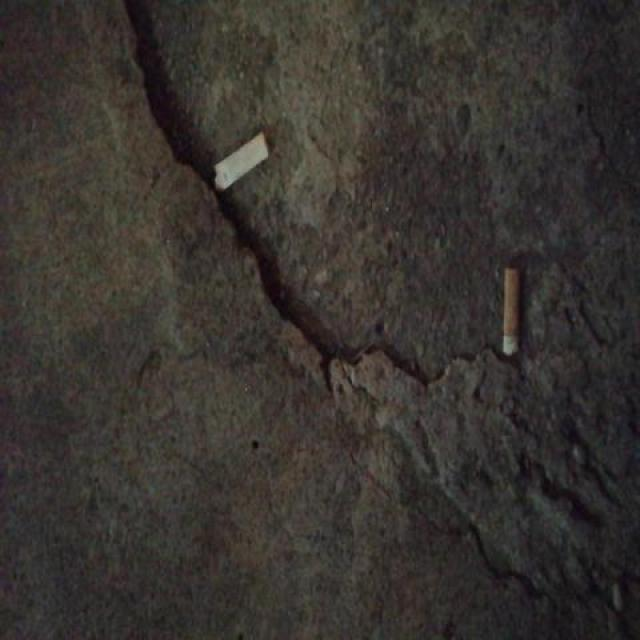non-organic waste: (207, 125, 274, 198), (499, 262, 525, 359)
